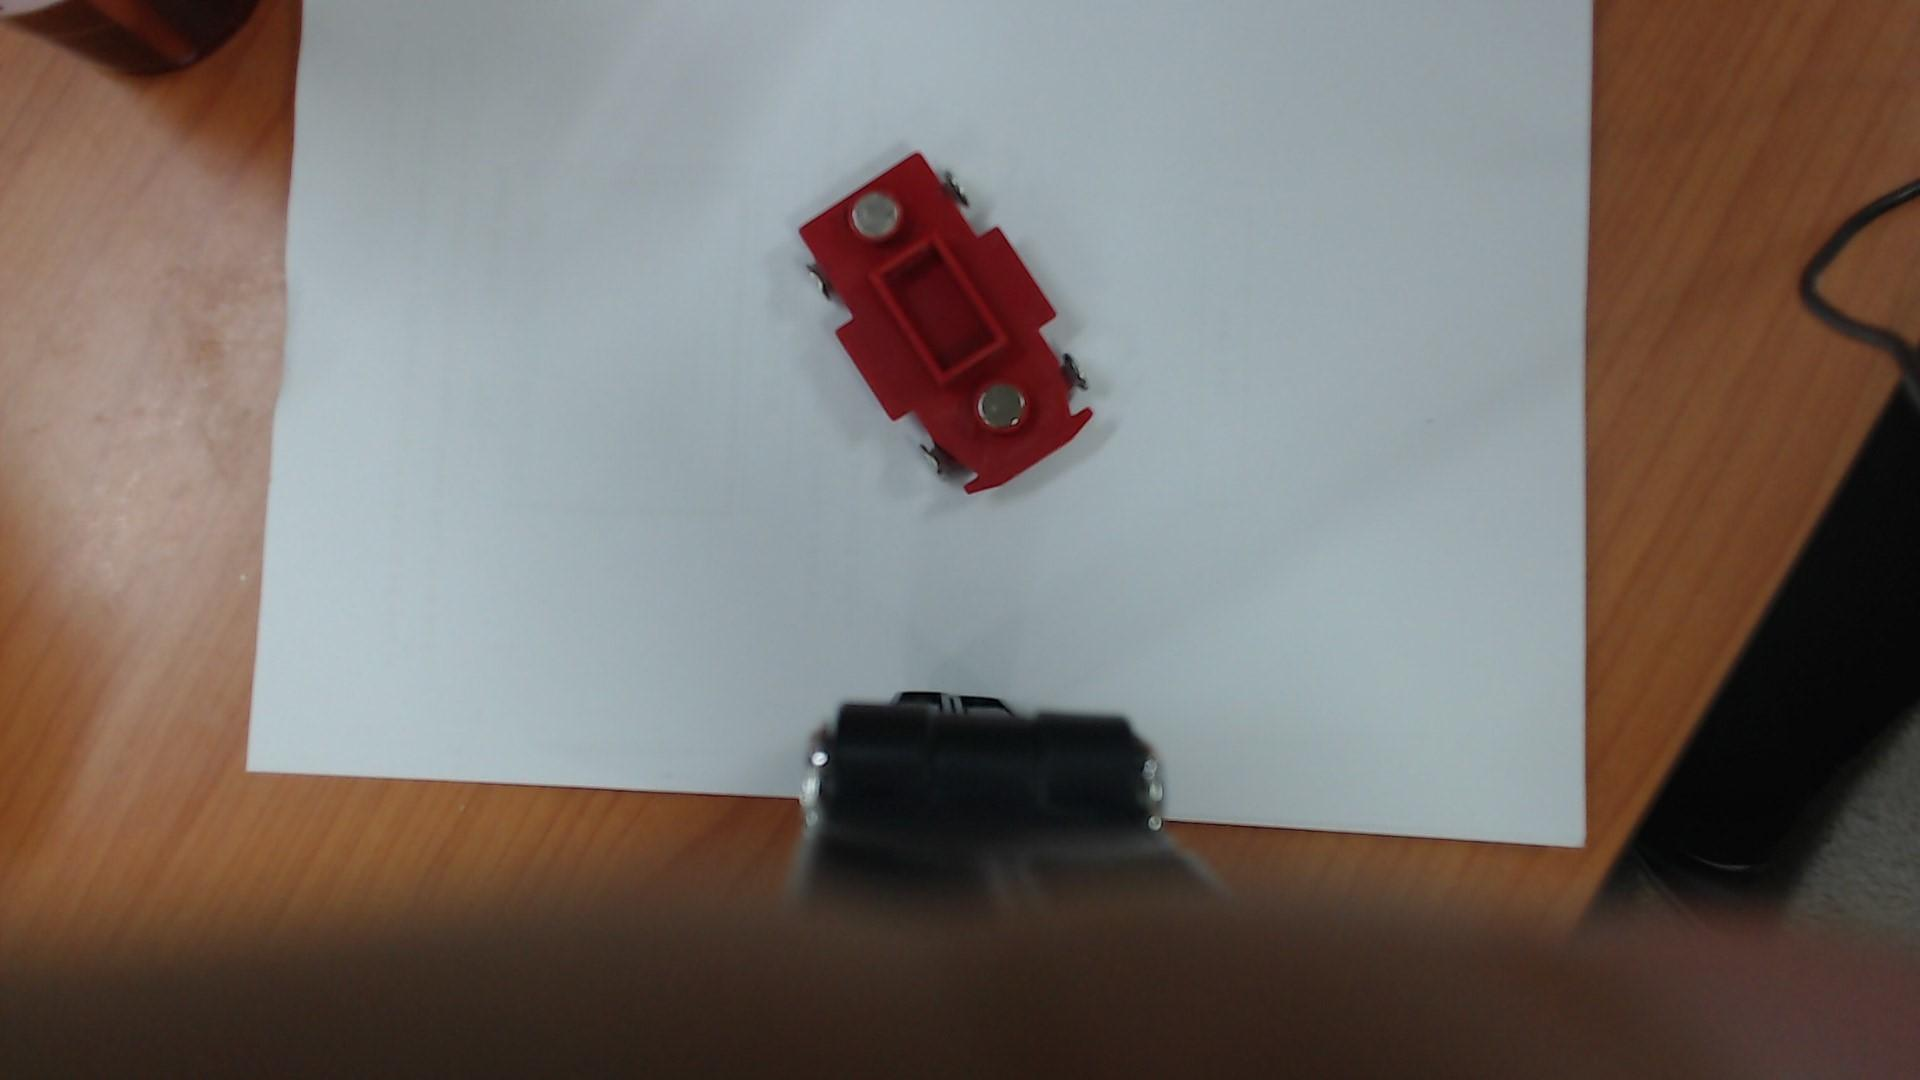lower_ok: (861, 224, 1017, 397)
